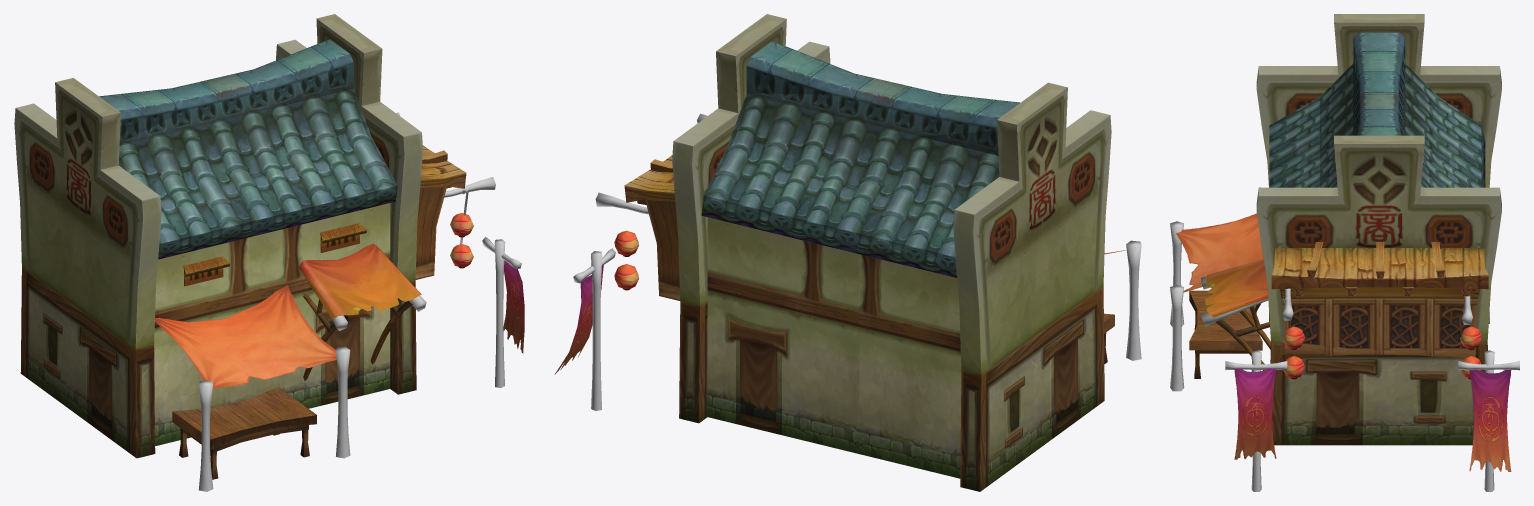
The model's file is shangpu.FBX.
3 views of the same model, side by side, from view 1: azimuth 30°, elevation 25°; view 2: azimuth 150°, elevation 25°; view 3: azimuth 270°, elevation 25° (orthographic). The views are drawn at different scales.
Visible parts, largest first — view 1: Box002; view 2: Box002; view 3: Box002.
Boxes of the visible parts, bbox=[...] form: Box002: bbox=[14, 14, 524, 491]; Box002: bbox=[554, 14, 1141, 491]; Box002: bbox=[1170, 14, 1519, 491].
Size of the model in its own units: 798 by 647 by 660.
